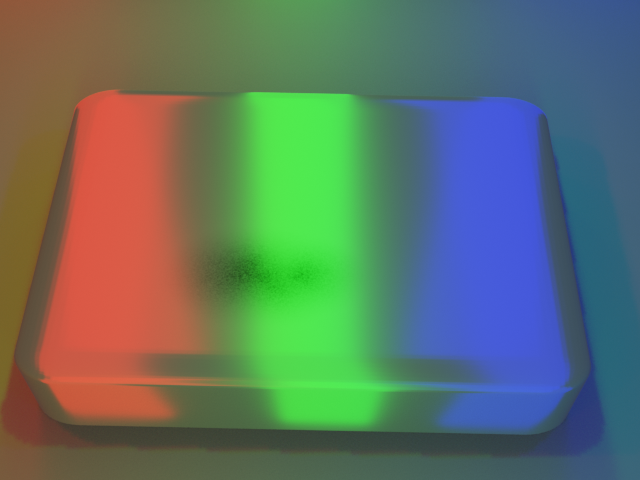stain: (139, 206, 401, 359)
